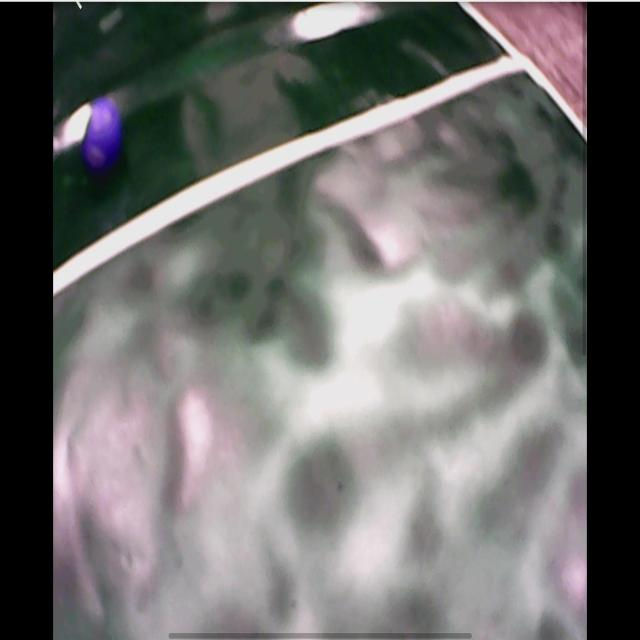ball: (79, 101, 118, 162)
